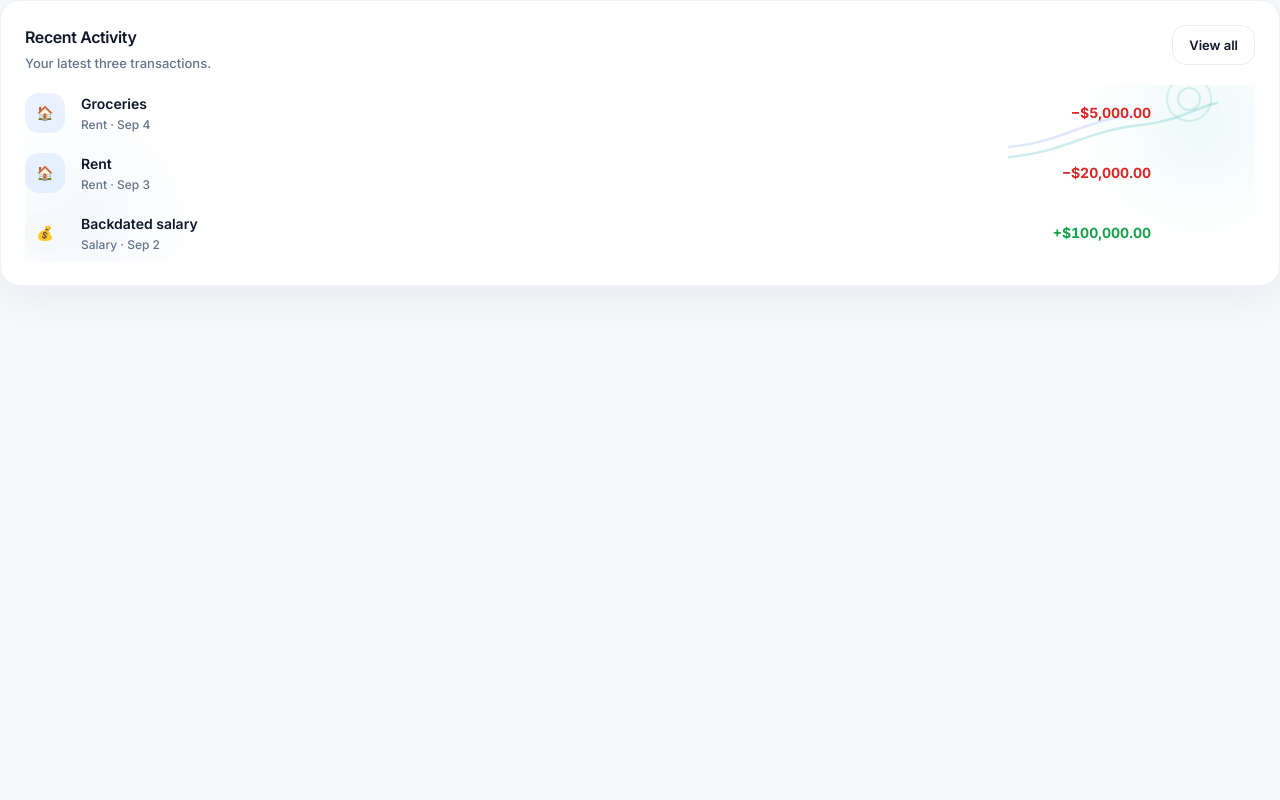
Scenario: RecentActivity › opens the edit form when the row itself is clicked
This screenshot has width=1280, height=800.
Click the text "Rent" at (96, 164), box left=81, top=155, right=112, bottom=172
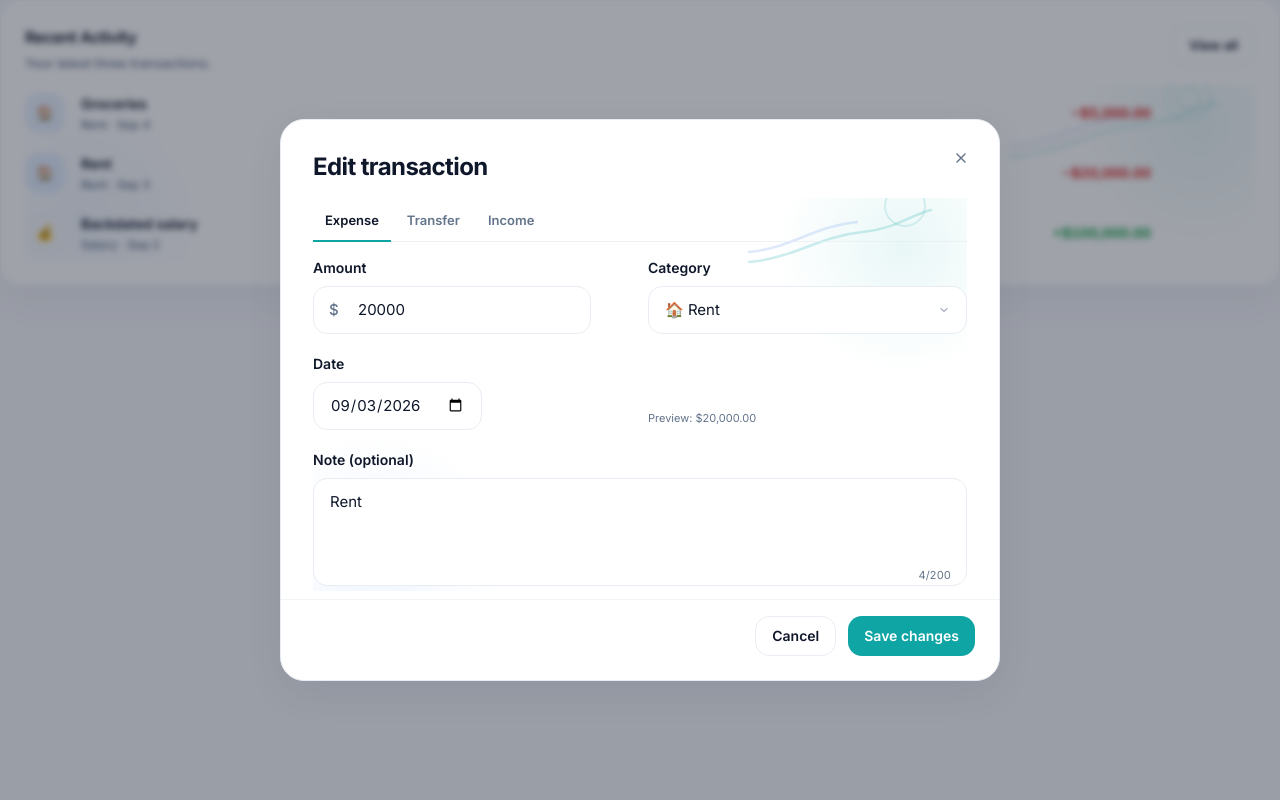
Expected: the heading "Edit transaction" is shown, left=313, top=152, right=488, bottom=181
Expected: the field labelled "Amount" holds "20000", left=313, top=286, right=591, bottom=334
Expected: the text box labelled "Note (optional)" holds "Rent", left=313, top=478, right=967, bottom=586
